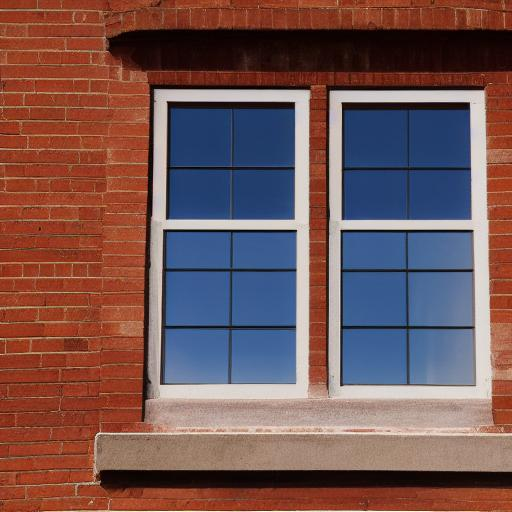Window: (95, 8, 512, 490)
